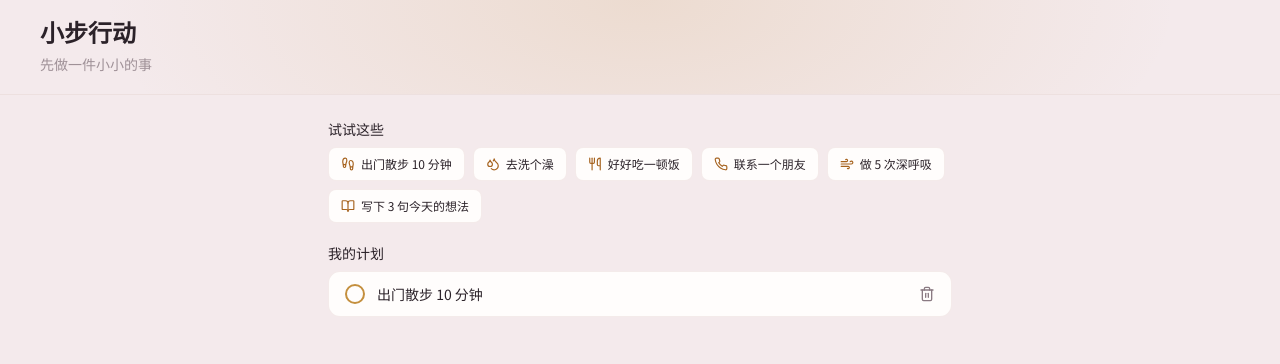
Scenario: SmallSteps › moves an item to 已完成 when its toggle button is clicked
The image size is (1280, 364).
Click the button named "标记完成：出门散步 10 分钟": (355,294) [345,284,365,304]
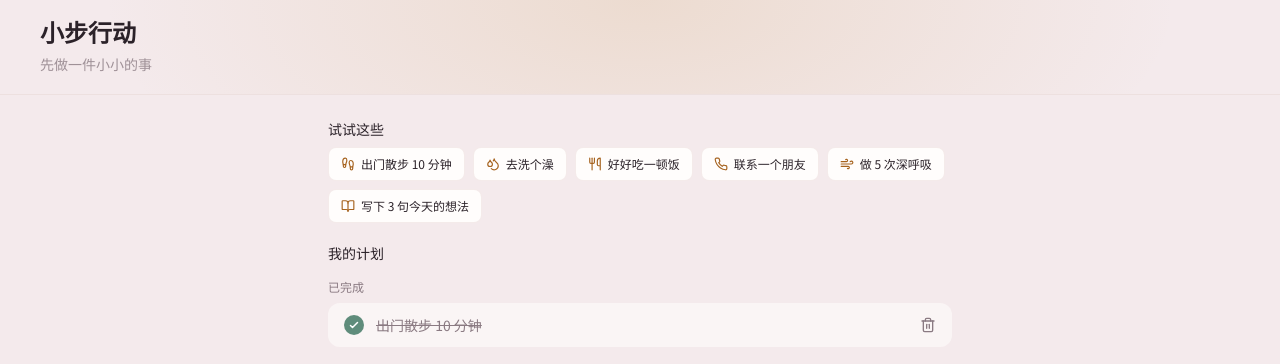
Check: the text "已完成" is shown, box [328,278,364,295]
